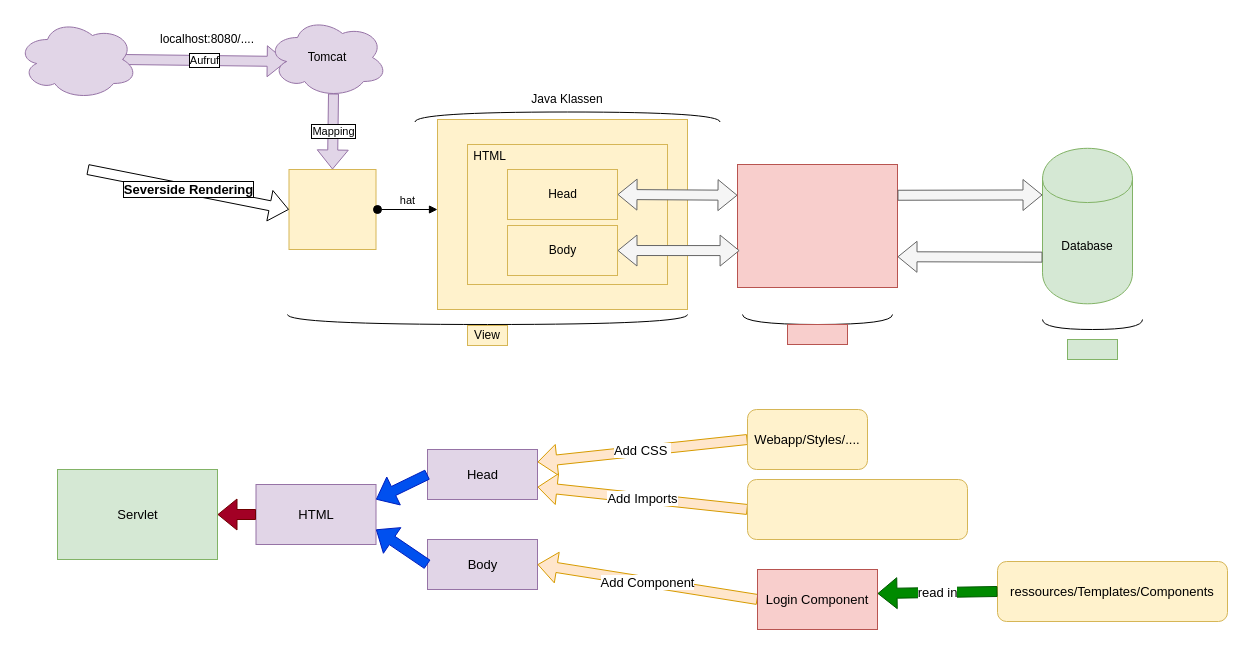
Some shapes in this 1245 by 647 pixel diagram are drawn without their labels. Here are the shapes that lost their labels. From the top down, the centre of each, then its label:
At point (77, 59): "Internet".
At point (332, 209): "Servlets".
At point (817, 226): "Logic in Beans".
At point (817, 334): "Controll".
At point (1092, 349): "Model".
At point (857, 509): "ressources/Templates/Imports".
